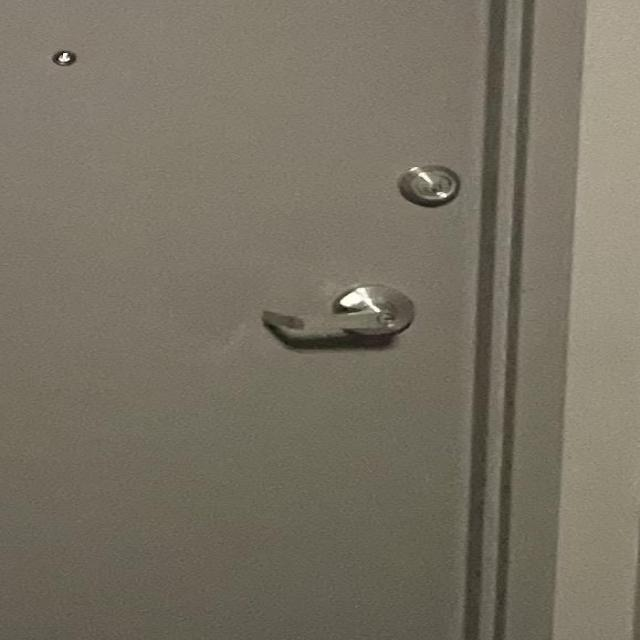door_handle: (245, 295, 439, 360)
